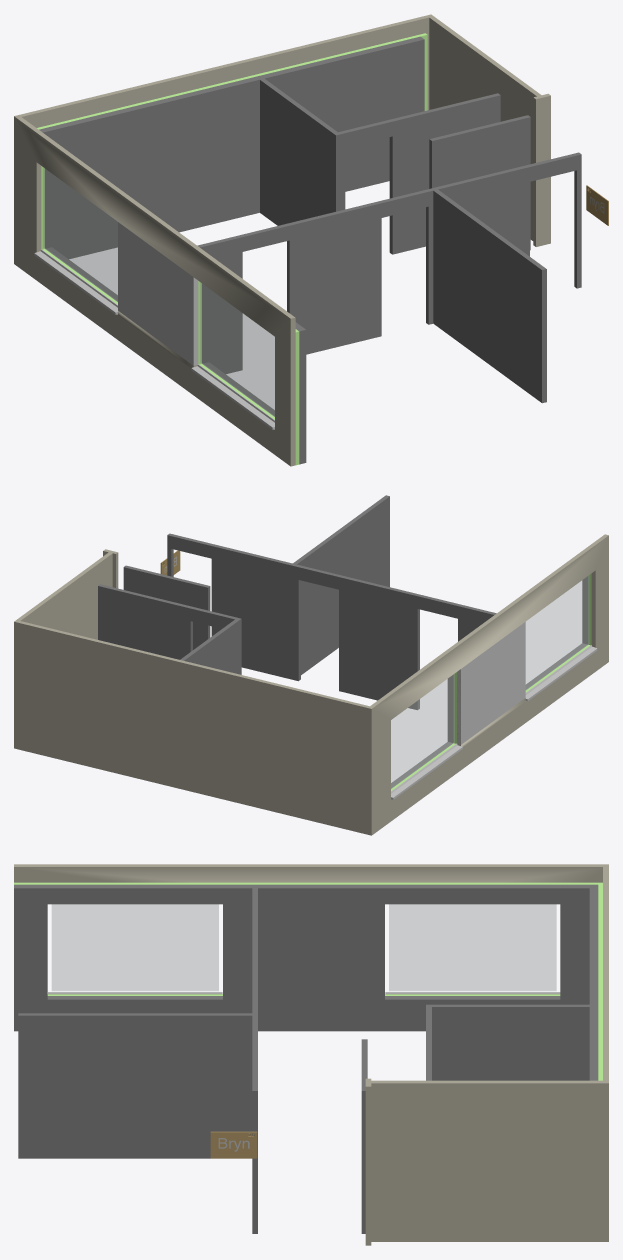
3 views of the same model, one above another, from view 1: azimuth 30°, elevation 25°; view 2: azimuth 150°, elevation 25°; view 3: azimuth 270°, elevation 25° (orthographic). The views are drawn at different scales.
Visible parts, largest first — view 1: Walls, System Panel, NLRS_41_GM_WPB_waterslag RD50-90x160_vebo_ISR; view 2: Walls, System Panel, NLRS_41_GM_WPB_waterslag RD50-90x160_vebo_ISR; view 3: Walls, System Panel, Walls.001, NLRS_41_GM_WPB_waterslag RD50-90x160_vebo_ISR.
Boxes of the visible parts, box(x1,y1,x2,y2) form: Walls: box(14, 14, 581, 466); System Panel: box(43, 168, 274, 416); NLRS_41_GM_WPB_waterslag RD50-90x160_vebo_ISR: box(34, 249, 274, 429); Walls: box(14, 495, 608, 835); System Panel: box(391, 575, 589, 788); NLRS_41_GM_WPB_waterslag RD50-90x160_vebo_ISR: box(391, 645, 597, 799); Walls: box(14, 864, 608, 1245); System Panel: box(52, 904, 556, 990); Walls.001: box(210, 1131, 257, 1158); NLRS_41_GM_WPB_waterslag RD50-90x160_vebo_ISR: box(48, 992, 560, 994).
Bounding box in the file's own units: 9.05 × 3 × 10.18.
